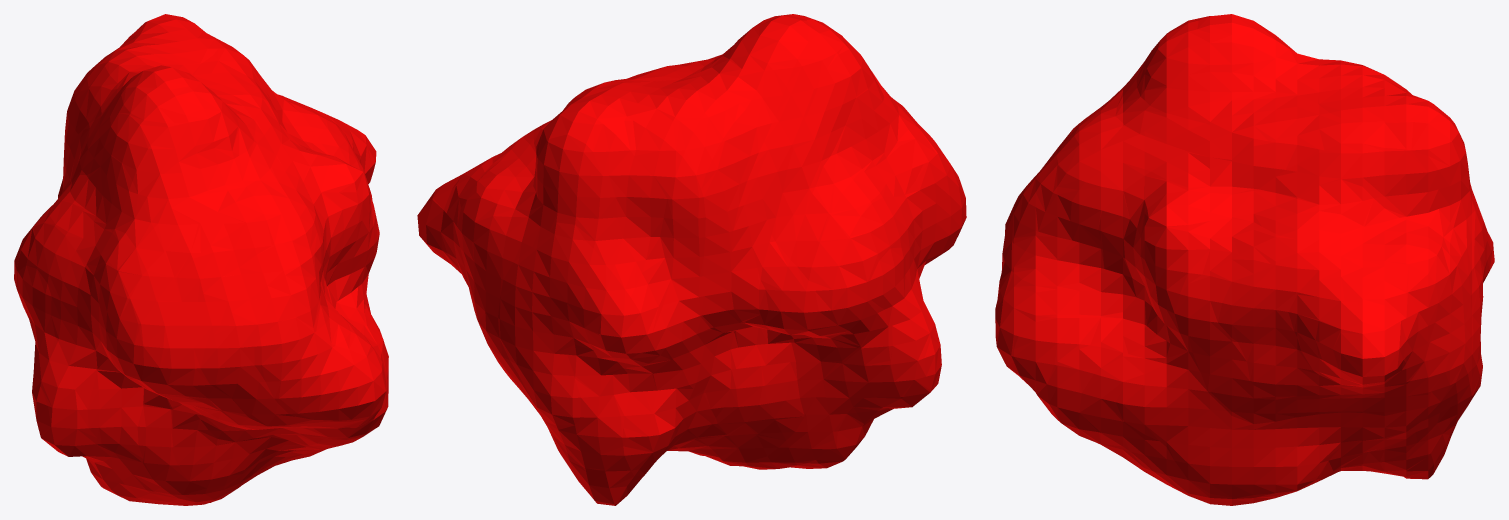
The model's file is map_coarse.dae.
3 renders of one model, left to right at view 1: azimuth 30°, elevation 25°; view 2: azimuth 150°, elevation 25°; view 3: azimuth 270°, elevation 25°, orthographic. The views are drawn at different scales.
Parts seen in each view (by area): view 1: map; view 2: map; view 3: map.
Part boxes in pixels (x1,y1,x2,y2): map: (14, 14, 388, 505); map: (417, 14, 966, 505); map: (995, 14, 1494, 505).
Size of the model in its own units: 51.34 by 51.15 by 52.13.
